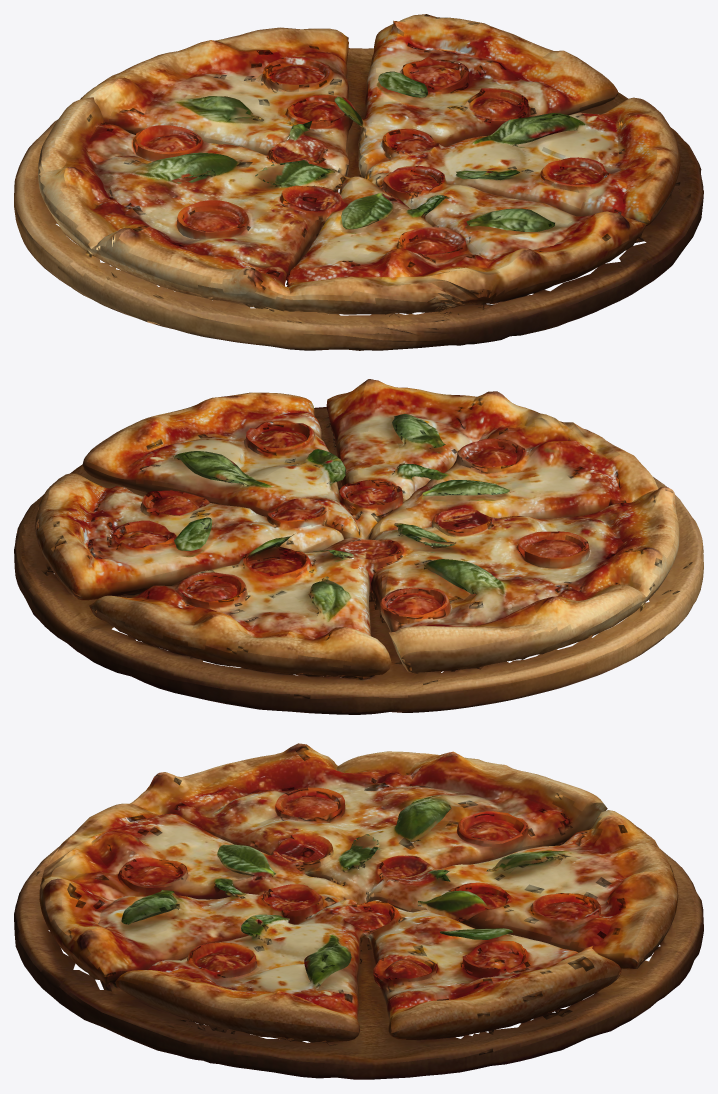
Rendered from pepperonipizza_v2_reparada.glb.
3 renders of one model, top to bottom at view 1: azimuth 30°, elevation 25°; view 2: azimuth 150°, elevation 25°; view 3: azimuth 270°, elevation 25°, orthographic.
Visible parts, largest first — view 1: tripo_node_b654eb42; view 2: tripo_node_b654eb42; view 3: tripo_node_b654eb42.
Boxes of the visible parts, x1,y1,x2,y2 form: tripo_node_b654eb42: [14, 14, 703, 350]; tripo_node_b654eb42: [14, 379, 703, 714]; tripo_node_b654eb42: [14, 743, 703, 1079].
Bounding box in the file's own units: 0.9986 × 0.1039 × 0.9963.
1 material, 1 textured.
